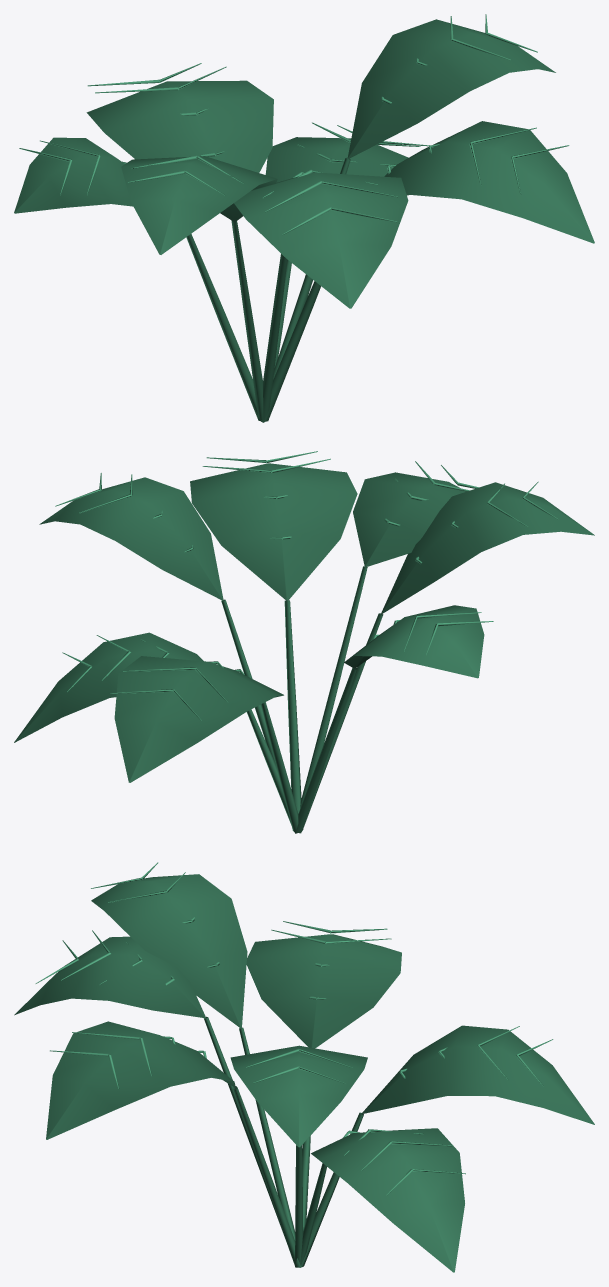
Rendered from River Elephant Ear.glb.
3 views of the same model, one above another, from view 1: azimuth 30°, elevation 25°; view 2: azimuth 150°, elevation 25°; view 3: azimuth 270°, elevation 25° (orthographic). The views are drawn at different scales.
Visible parts, largest first — view 1: River Elephant Ear; view 2: River Elephant Ear; view 3: River Elephant Ear.
Part boxes in pixels (<box>): River Elephant Ear: <box>14,14,594,422</box>; River Elephant Ear: <box>14,451,594,833</box>; River Elephant Ear: <box>14,862,594,1272</box>.
Bounding box in the file's own units: 2.24 × 1.47 × 2.44.
